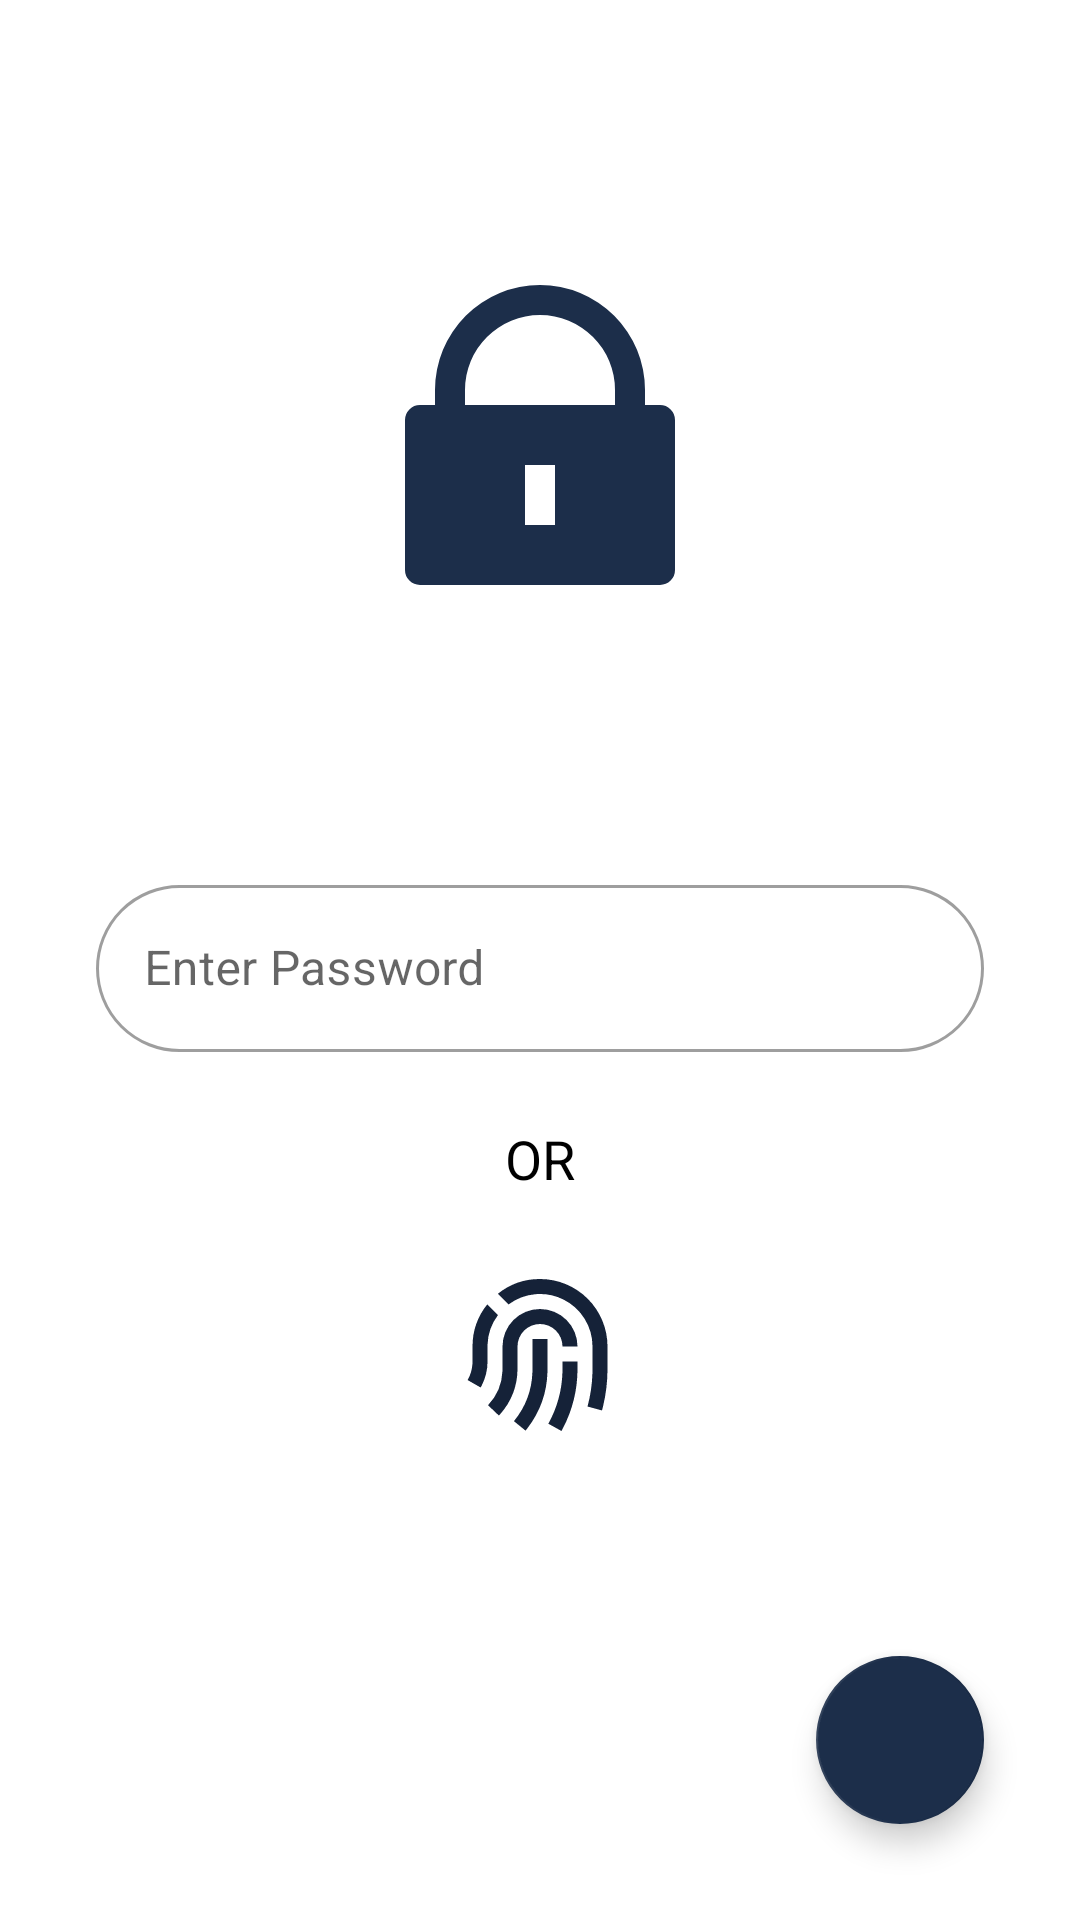

Icon bounding boxes for this 1080px x 1920px phone screenshot, format [x1,y1,x2,y2]:
fingerprint line: [467,1279,608,1431]
lock: [405,285,675,585]
